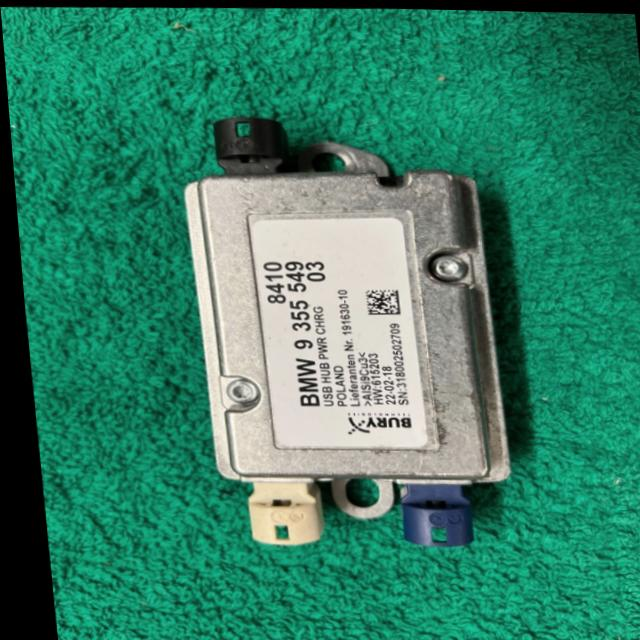datamatrix: (360, 286, 396, 314)
